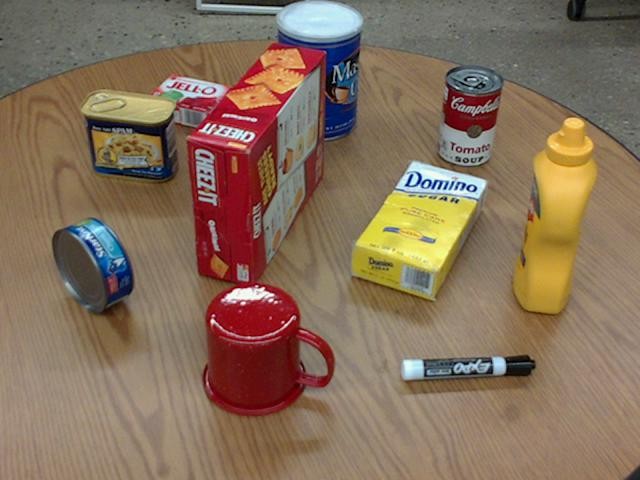cracker_box: (187, 42, 323, 286)
gelatin_box: (143, 73, 230, 127)
large_marker: (401, 355, 534, 380)
master_chef_can: (275, 0, 361, 139)
mug: (202, 282, 331, 415)
mustard_bottle: (513, 119, 596, 313)
potted_meat_can: (80, 88, 176, 179)
sugar_box: (350, 163, 487, 297)
tomato_soup_can: (437, 65, 502, 166)
tuna_fish_can: (52, 218, 134, 311)
